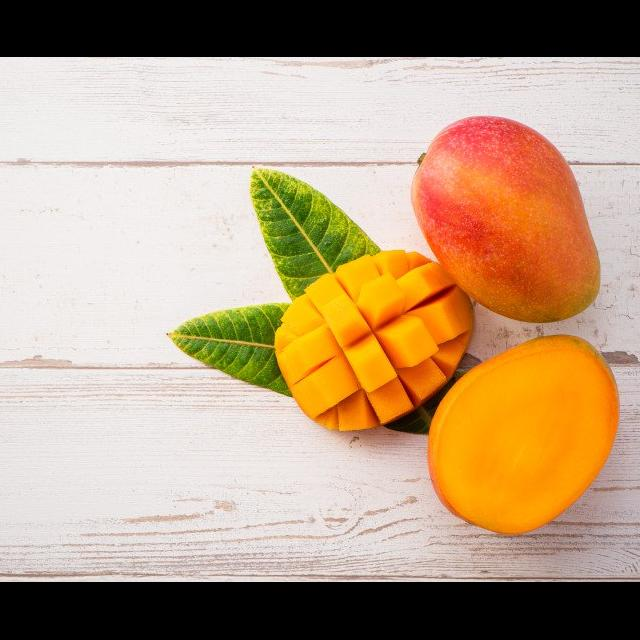mango: (424, 337, 621, 542), (406, 114, 601, 321), (275, 248, 476, 434)
